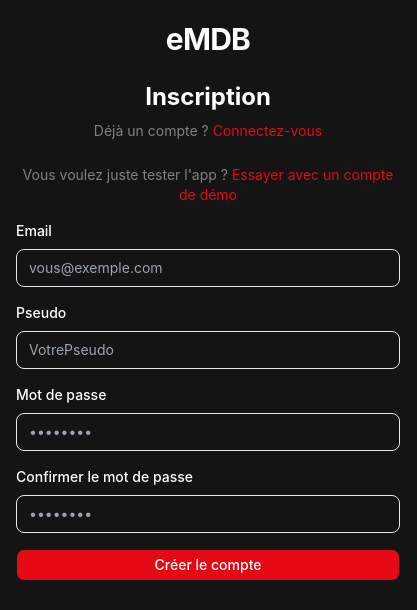
Authentication — Register › affiche une erreur pour confirmation qui ne correspond pas
Type "test@test.com" into the field named "email" at (208, 268), box [16,249,400,287]
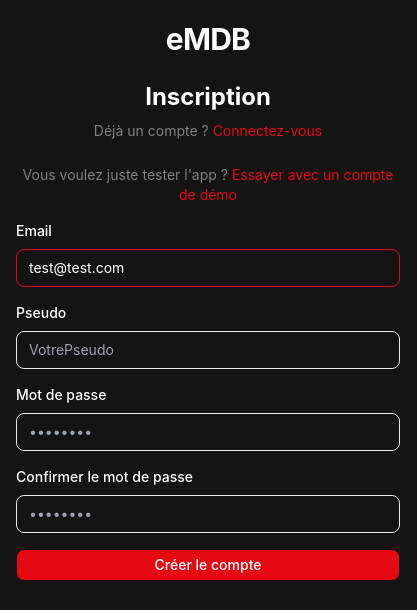
Type "TestUser" into the field named "pseudo" at (208, 350), box [16,331,400,369]
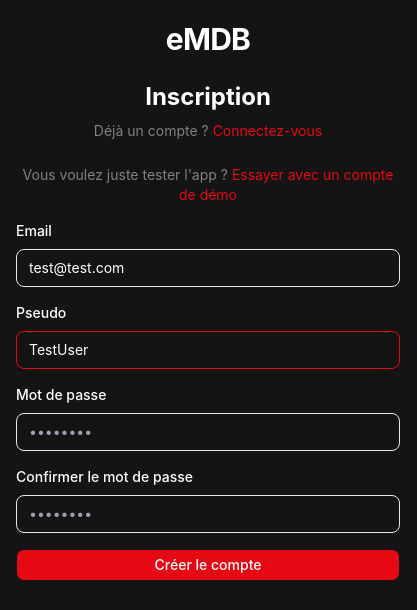
Type "password123" into the password field named "password" at (208, 432), box [16,413,400,451]
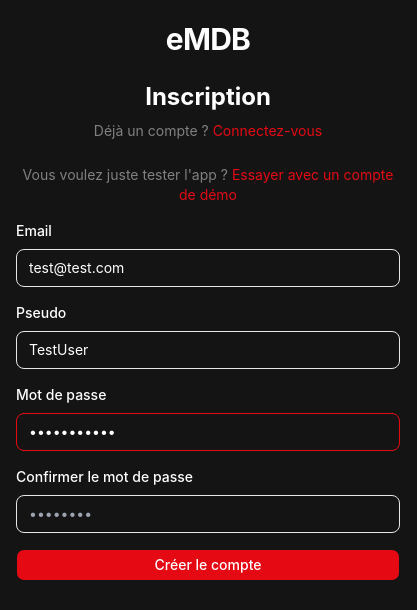
Type "different" into the password field named "confirmPassword" at (208, 514), box [16,495,400,533]
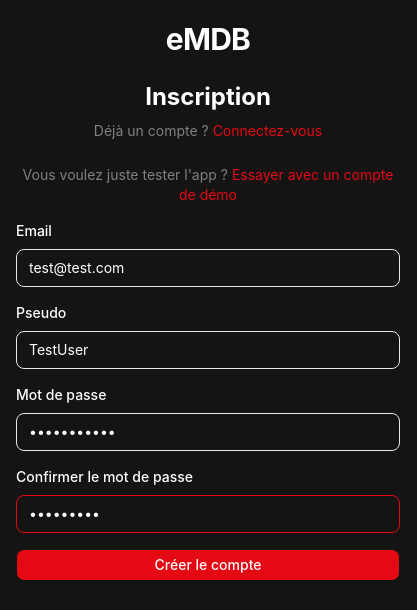
Click the button "Créer le compte" at (208, 565), box [16,549,400,581]
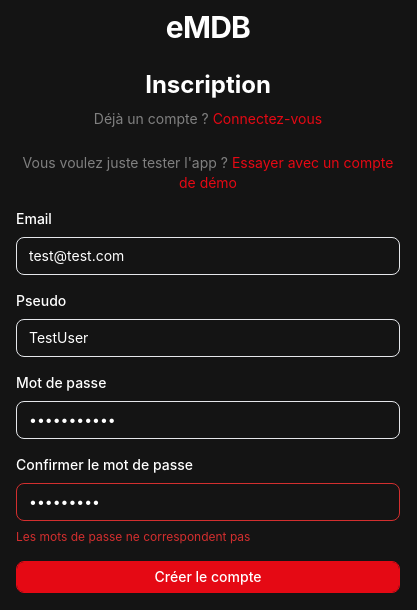
Expected: the text "Les mots de passe ne correspondent pas" is shown, [16,529,250,544]
